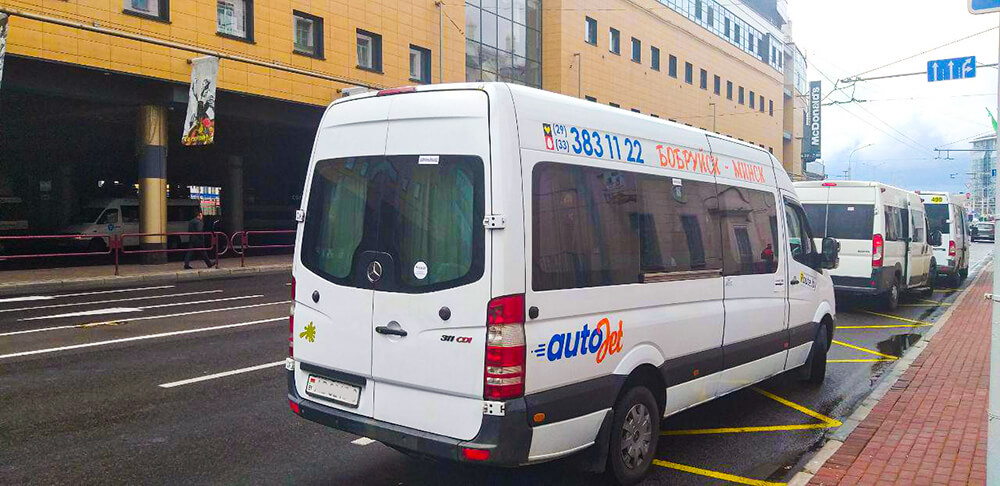van: (284, 82, 834, 474), (790, 177, 934, 307), (66, 192, 206, 255), (922, 189, 973, 288)
